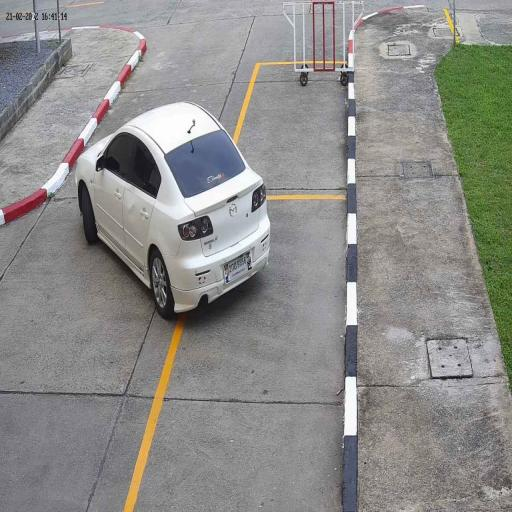car: (74, 99, 272, 322)
